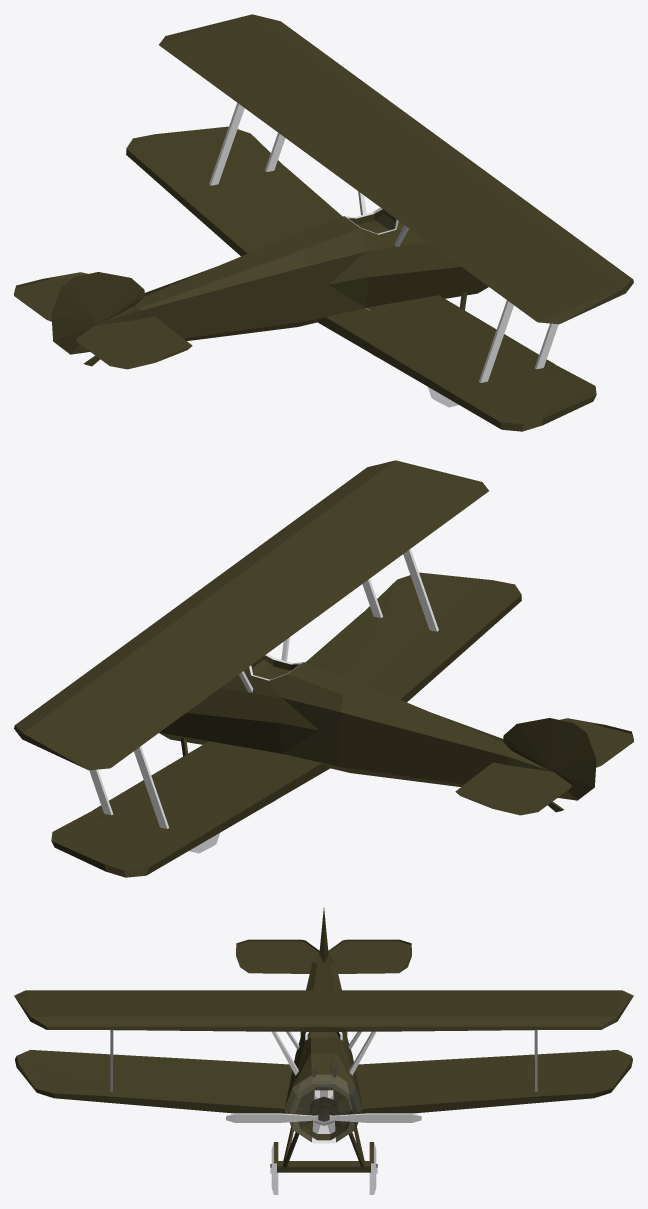
The model's file is camel2.fbx.
3 renders of one model, top to bottom at view 1: azimuth 30°, elevation 25°; view 2: azimuth 150°, elevation 25°; view 3: azimuth 270°, elevation 25°, orthographic. The views are drawn at different scales.
Parts seen in each view (by area): view 1: Body; view 2: Body; view 3: Body, Prop.
Part boxes in pixels (x1,y1,x2,y2): Body: [14, 14, 633, 431]; Body: [14, 460, 633, 877]; Body: [14, 908, 633, 1194]; Prop: [226, 1107, 421, 1124].
Size of the model in its own units: 224 by 108 by 338.
